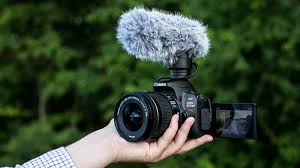camera: (115, 86, 211, 140)
